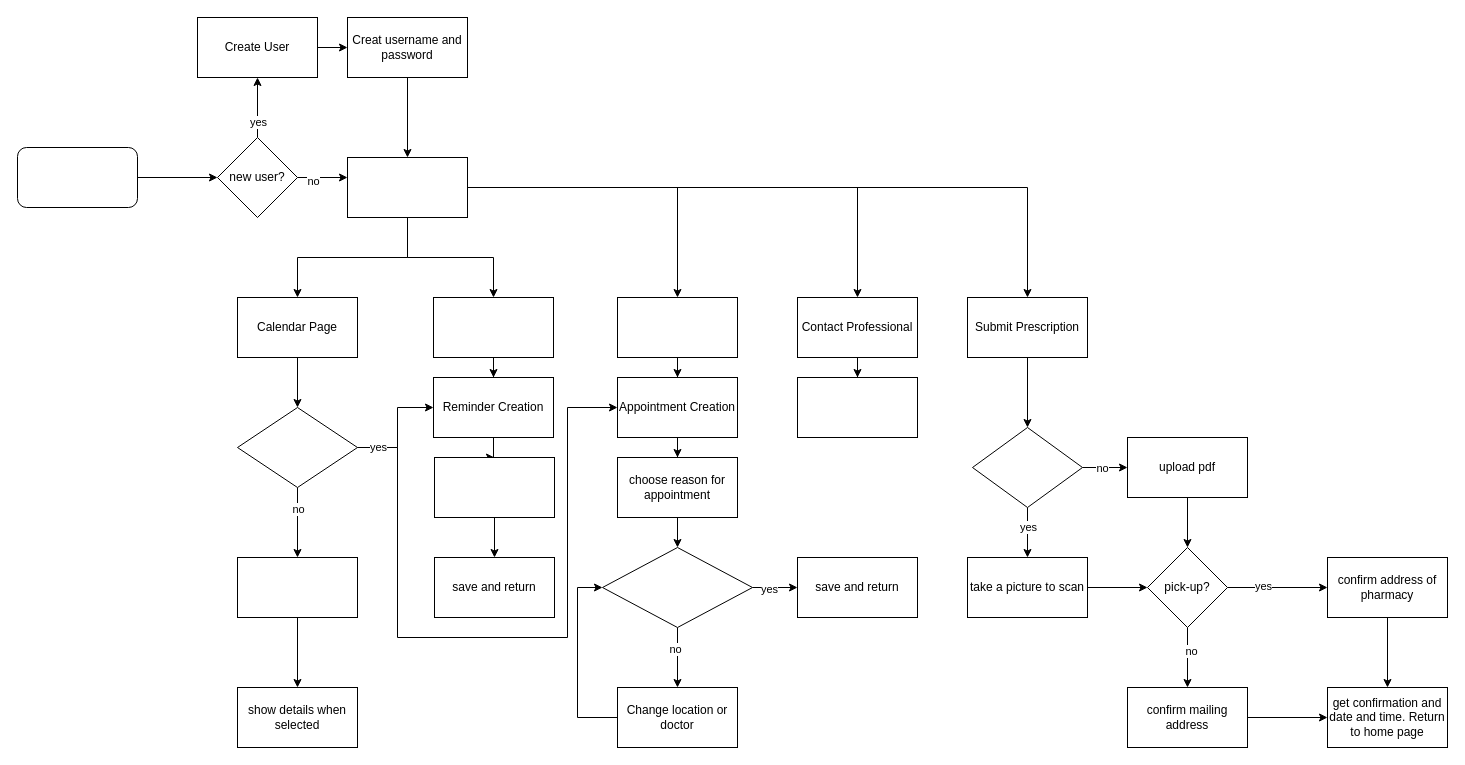
Some shapes in this 1465 by 765 pixel diagram are drawn without their labels. The box of each missing label's shape, as (x1, y1, x2, y2) in pixels:
Add new Appointment/ Reminder?: (236, 406, 358, 488)
Enter Details: (434, 456, 554, 518)
Enter Home Page: (346, 156, 468, 218)
have physical paper?: (972, 426, 1082, 508)
Make Appointment: (616, 296, 738, 358)
Make Reminder: (432, 296, 554, 358)
open app: (16, 146, 138, 208)
satisfied with doctor and location provided?: (602, 546, 752, 628)
send text, video call, and voice call: (796, 376, 918, 438)
show appoint./reminders on calendar: (236, 556, 358, 618)
